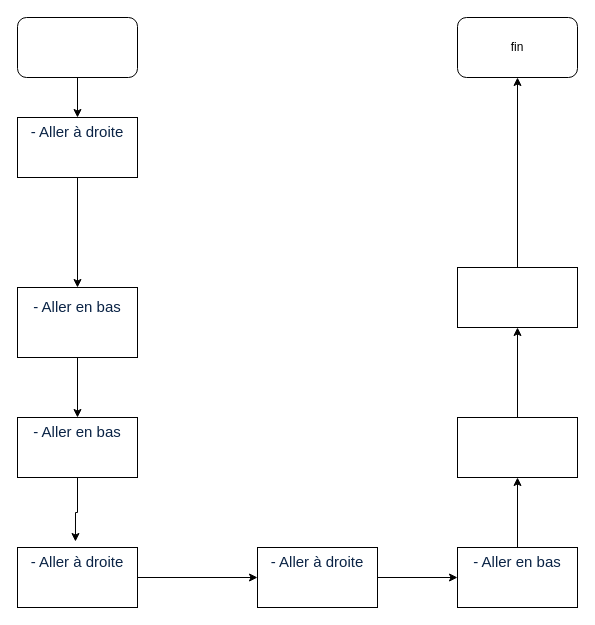
The diagram is 595 pixels wide and 625 high, and some of its shapes have lost their labels. The centre of each missing label's shape, as x and y in pixels:
"- Aller à gauche" belongs at pixel 517 297.
"debut" belongs at pixel 77 47.
"Sauter" belongs at pixel 517 447.
